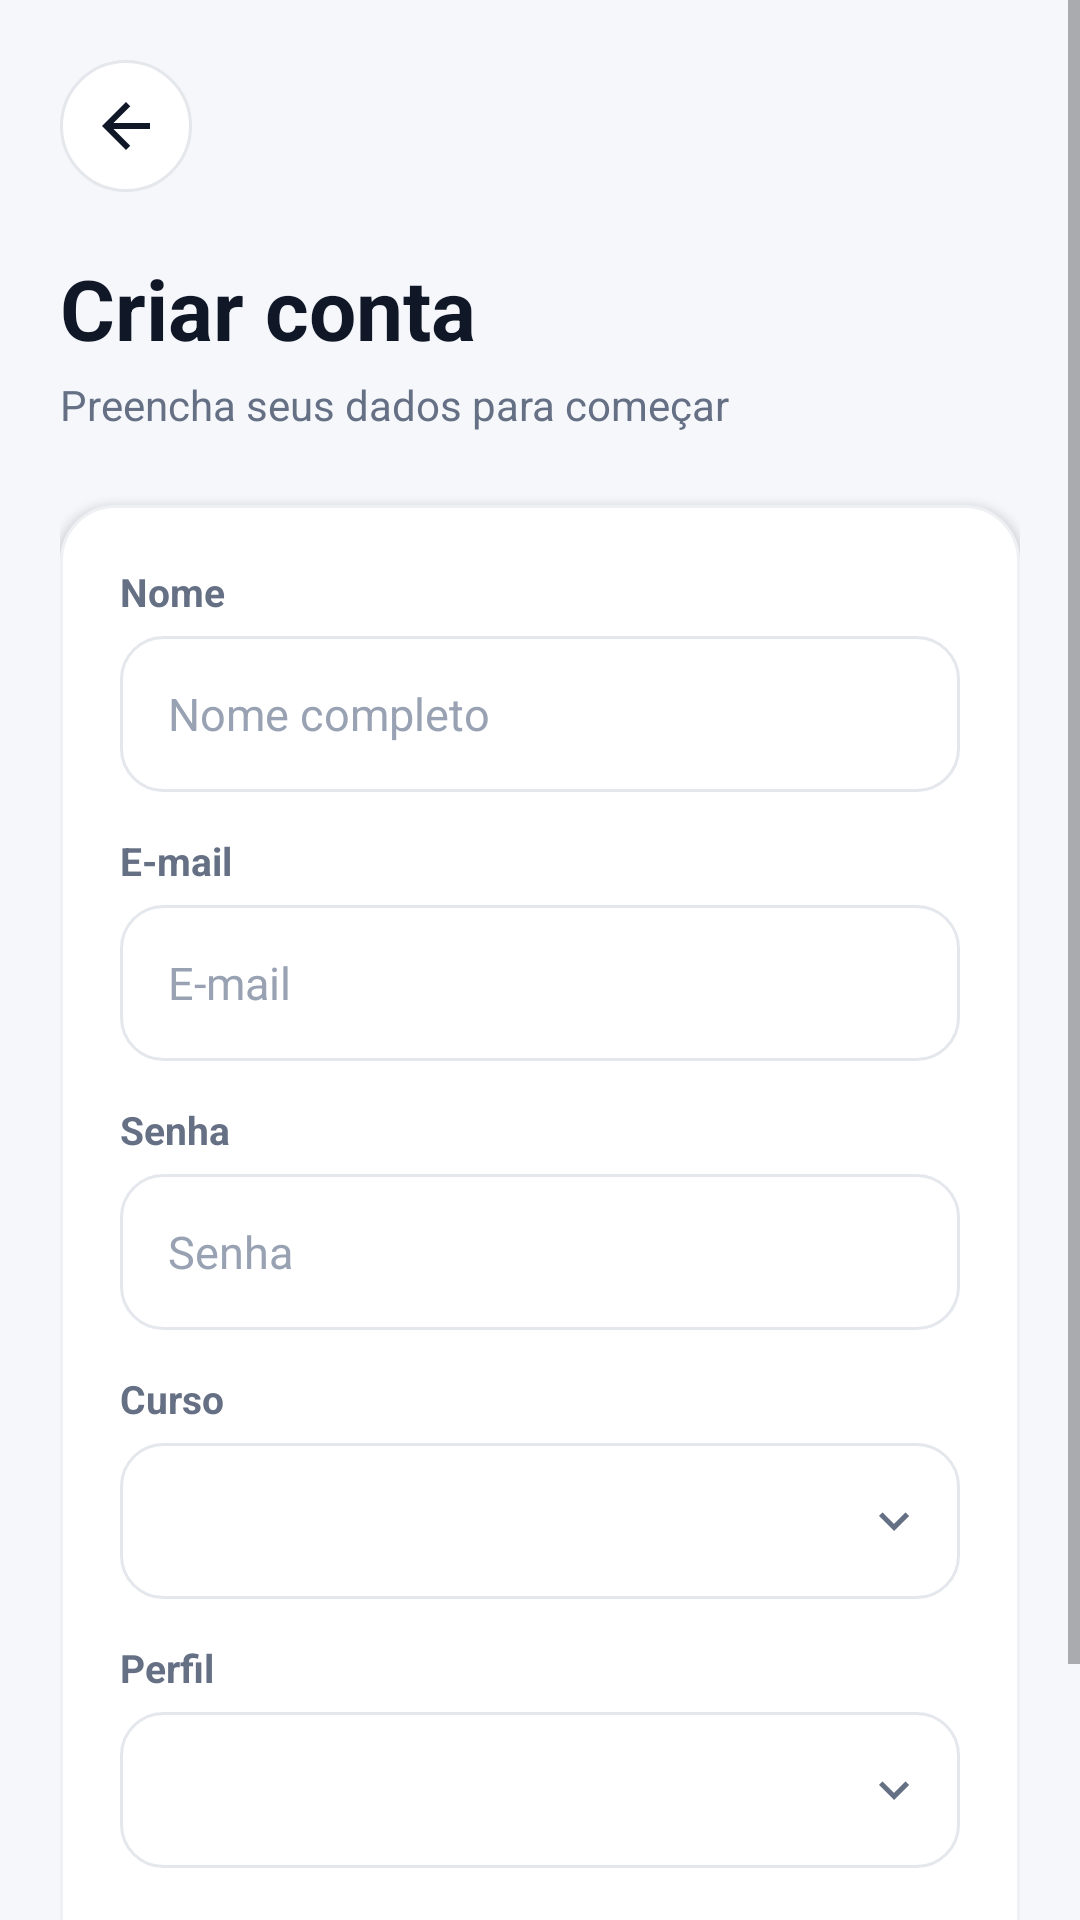

Icon bounding boxes for this 1080x1920 phone screenshot, format (x1, y1, x2, y2):
Voltar: (60, 60, 192, 192)
